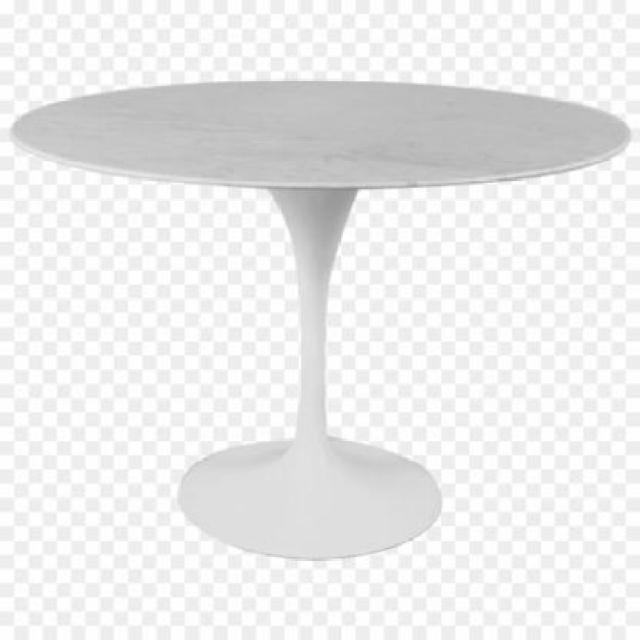table: (6, 78, 632, 557)
